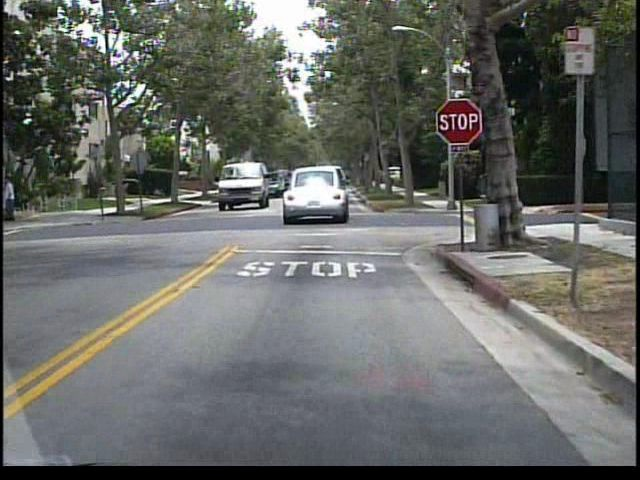person: (6, 170, 21, 225)
